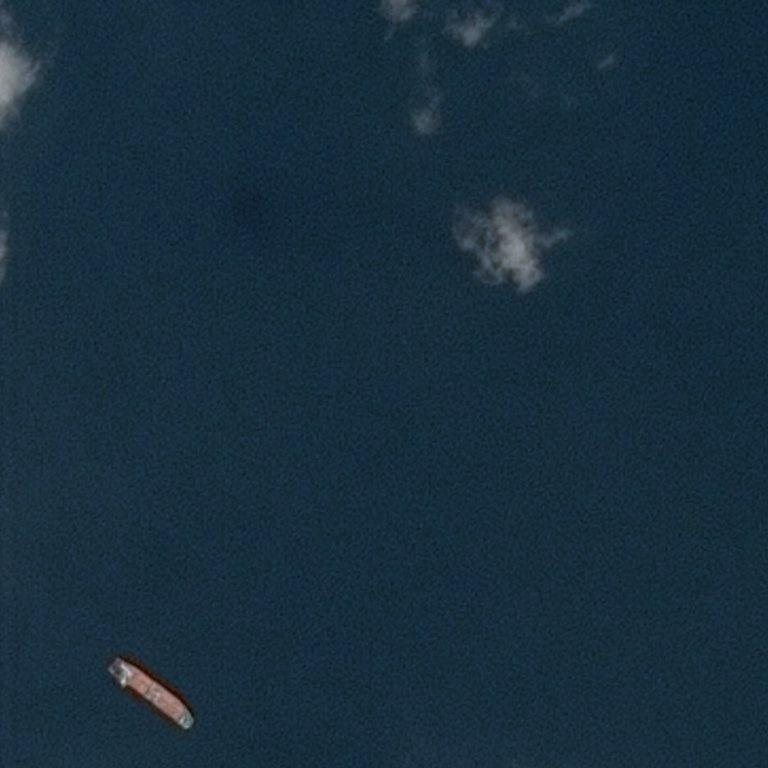ship: (62, 692, 90, 694), (188, 721, 193, 727), (113, 656, 117, 662), (107, 670, 111, 675)
